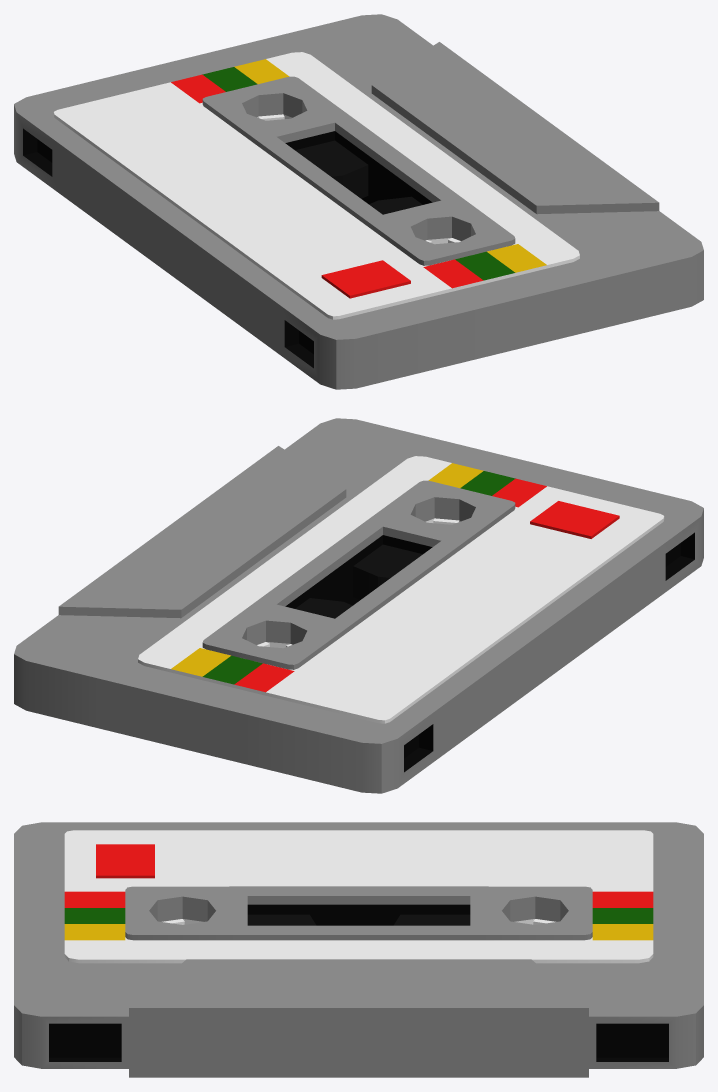
File: Tape_01.glb
3 renders of one model, top to bottom at view 1: azimuth 30°, elevation 25°; view 2: azimuth 150°, elevation 25°; view 3: azimuth 270°, elevation 25°, orthographic. The views are drawn at different scales.
Parts seen in each view (by area): view 1: Mesh_Tape_01; view 2: Mesh_Tape_01; view 3: Mesh_Tape_01.
Part boxes in pixels (x1=…): Mesh_Tape_01: x1=14, y1=14, x2=703, y2=389; Mesh_Tape_01: x1=14, y1=418, x2=703, y2=793; Mesh_Tape_01: x1=14, y1=822, x2=703, y2=1077.
Size of the model in its own units: 0.08 by 0.0134 by 0.12.
1 material, 1 textured.
